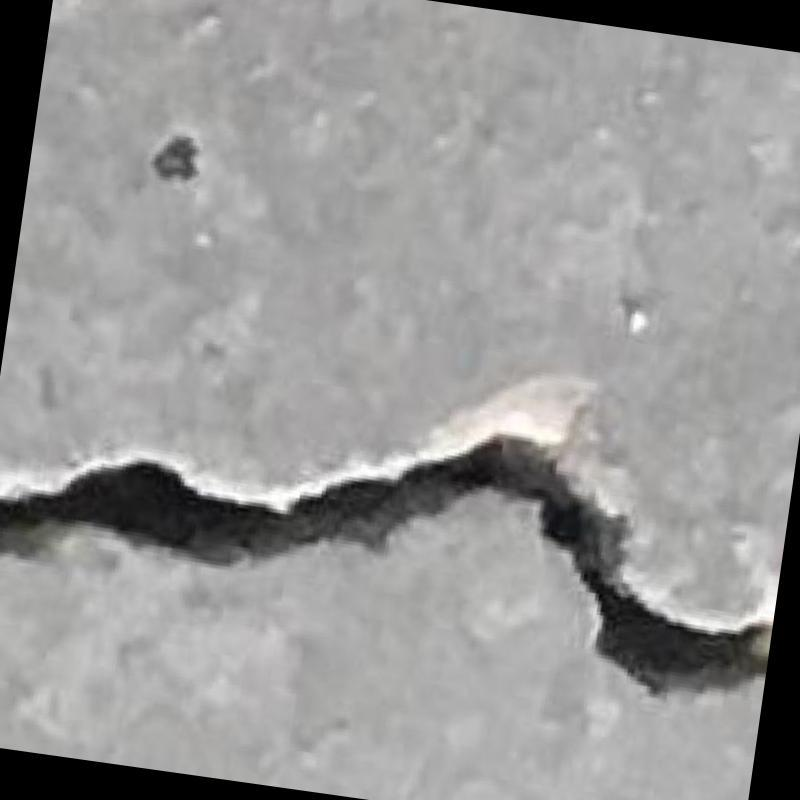crack: (0, 440, 767, 691)
